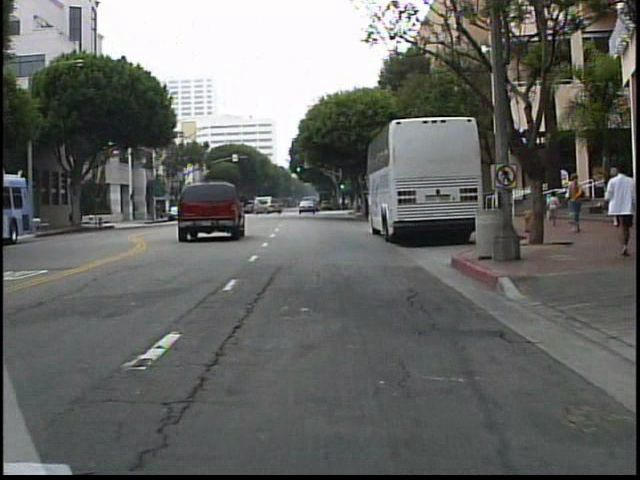person: (598, 160, 638, 259), (563, 169, 587, 236), (545, 188, 561, 232)
